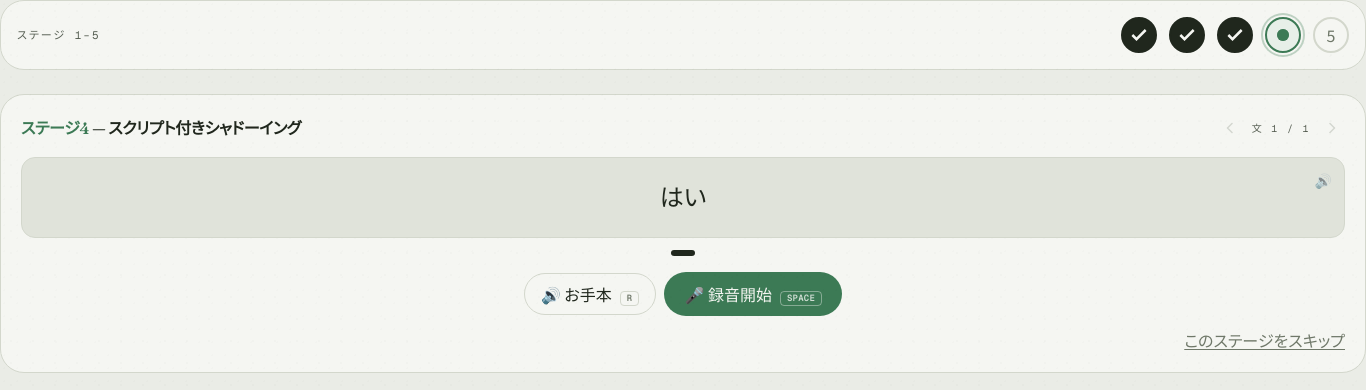
Test case: SegmentStageWorkspace › stays on stage 4 after it completes instead of auto-advancing to stage 5
Expected: the heading "ステージ4 — スクリプト付きシャドーイング" is shown, [21,116,301,140]
Click the button "このステージをスキップ": (1265, 340) [1184,328,1345,352]
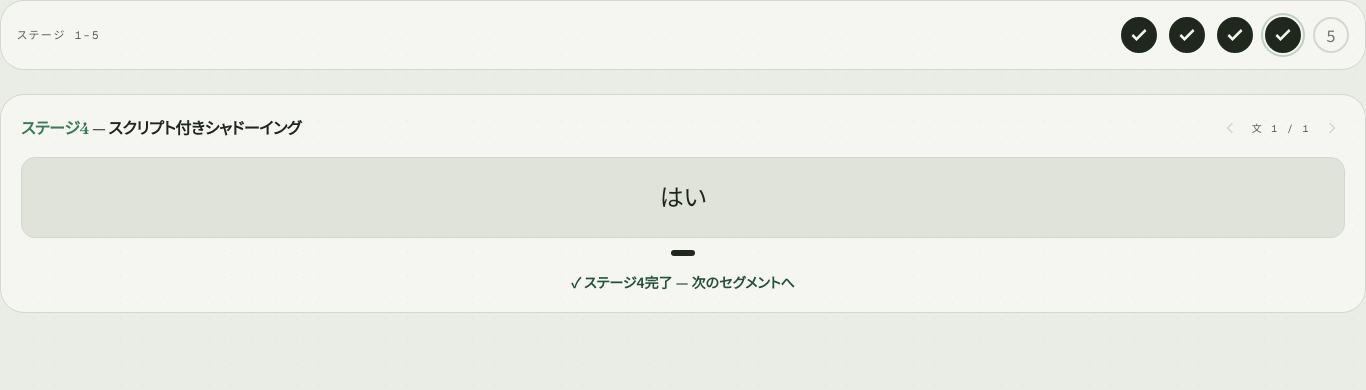
Expected: the heading "ステージ4 — スクリプト付きシャドーイング" is shown, [21,116,301,140]
Expected: the text "✓ ステージ4完了 — 次のセグメントへ" is shown, [571,272,795,292]
